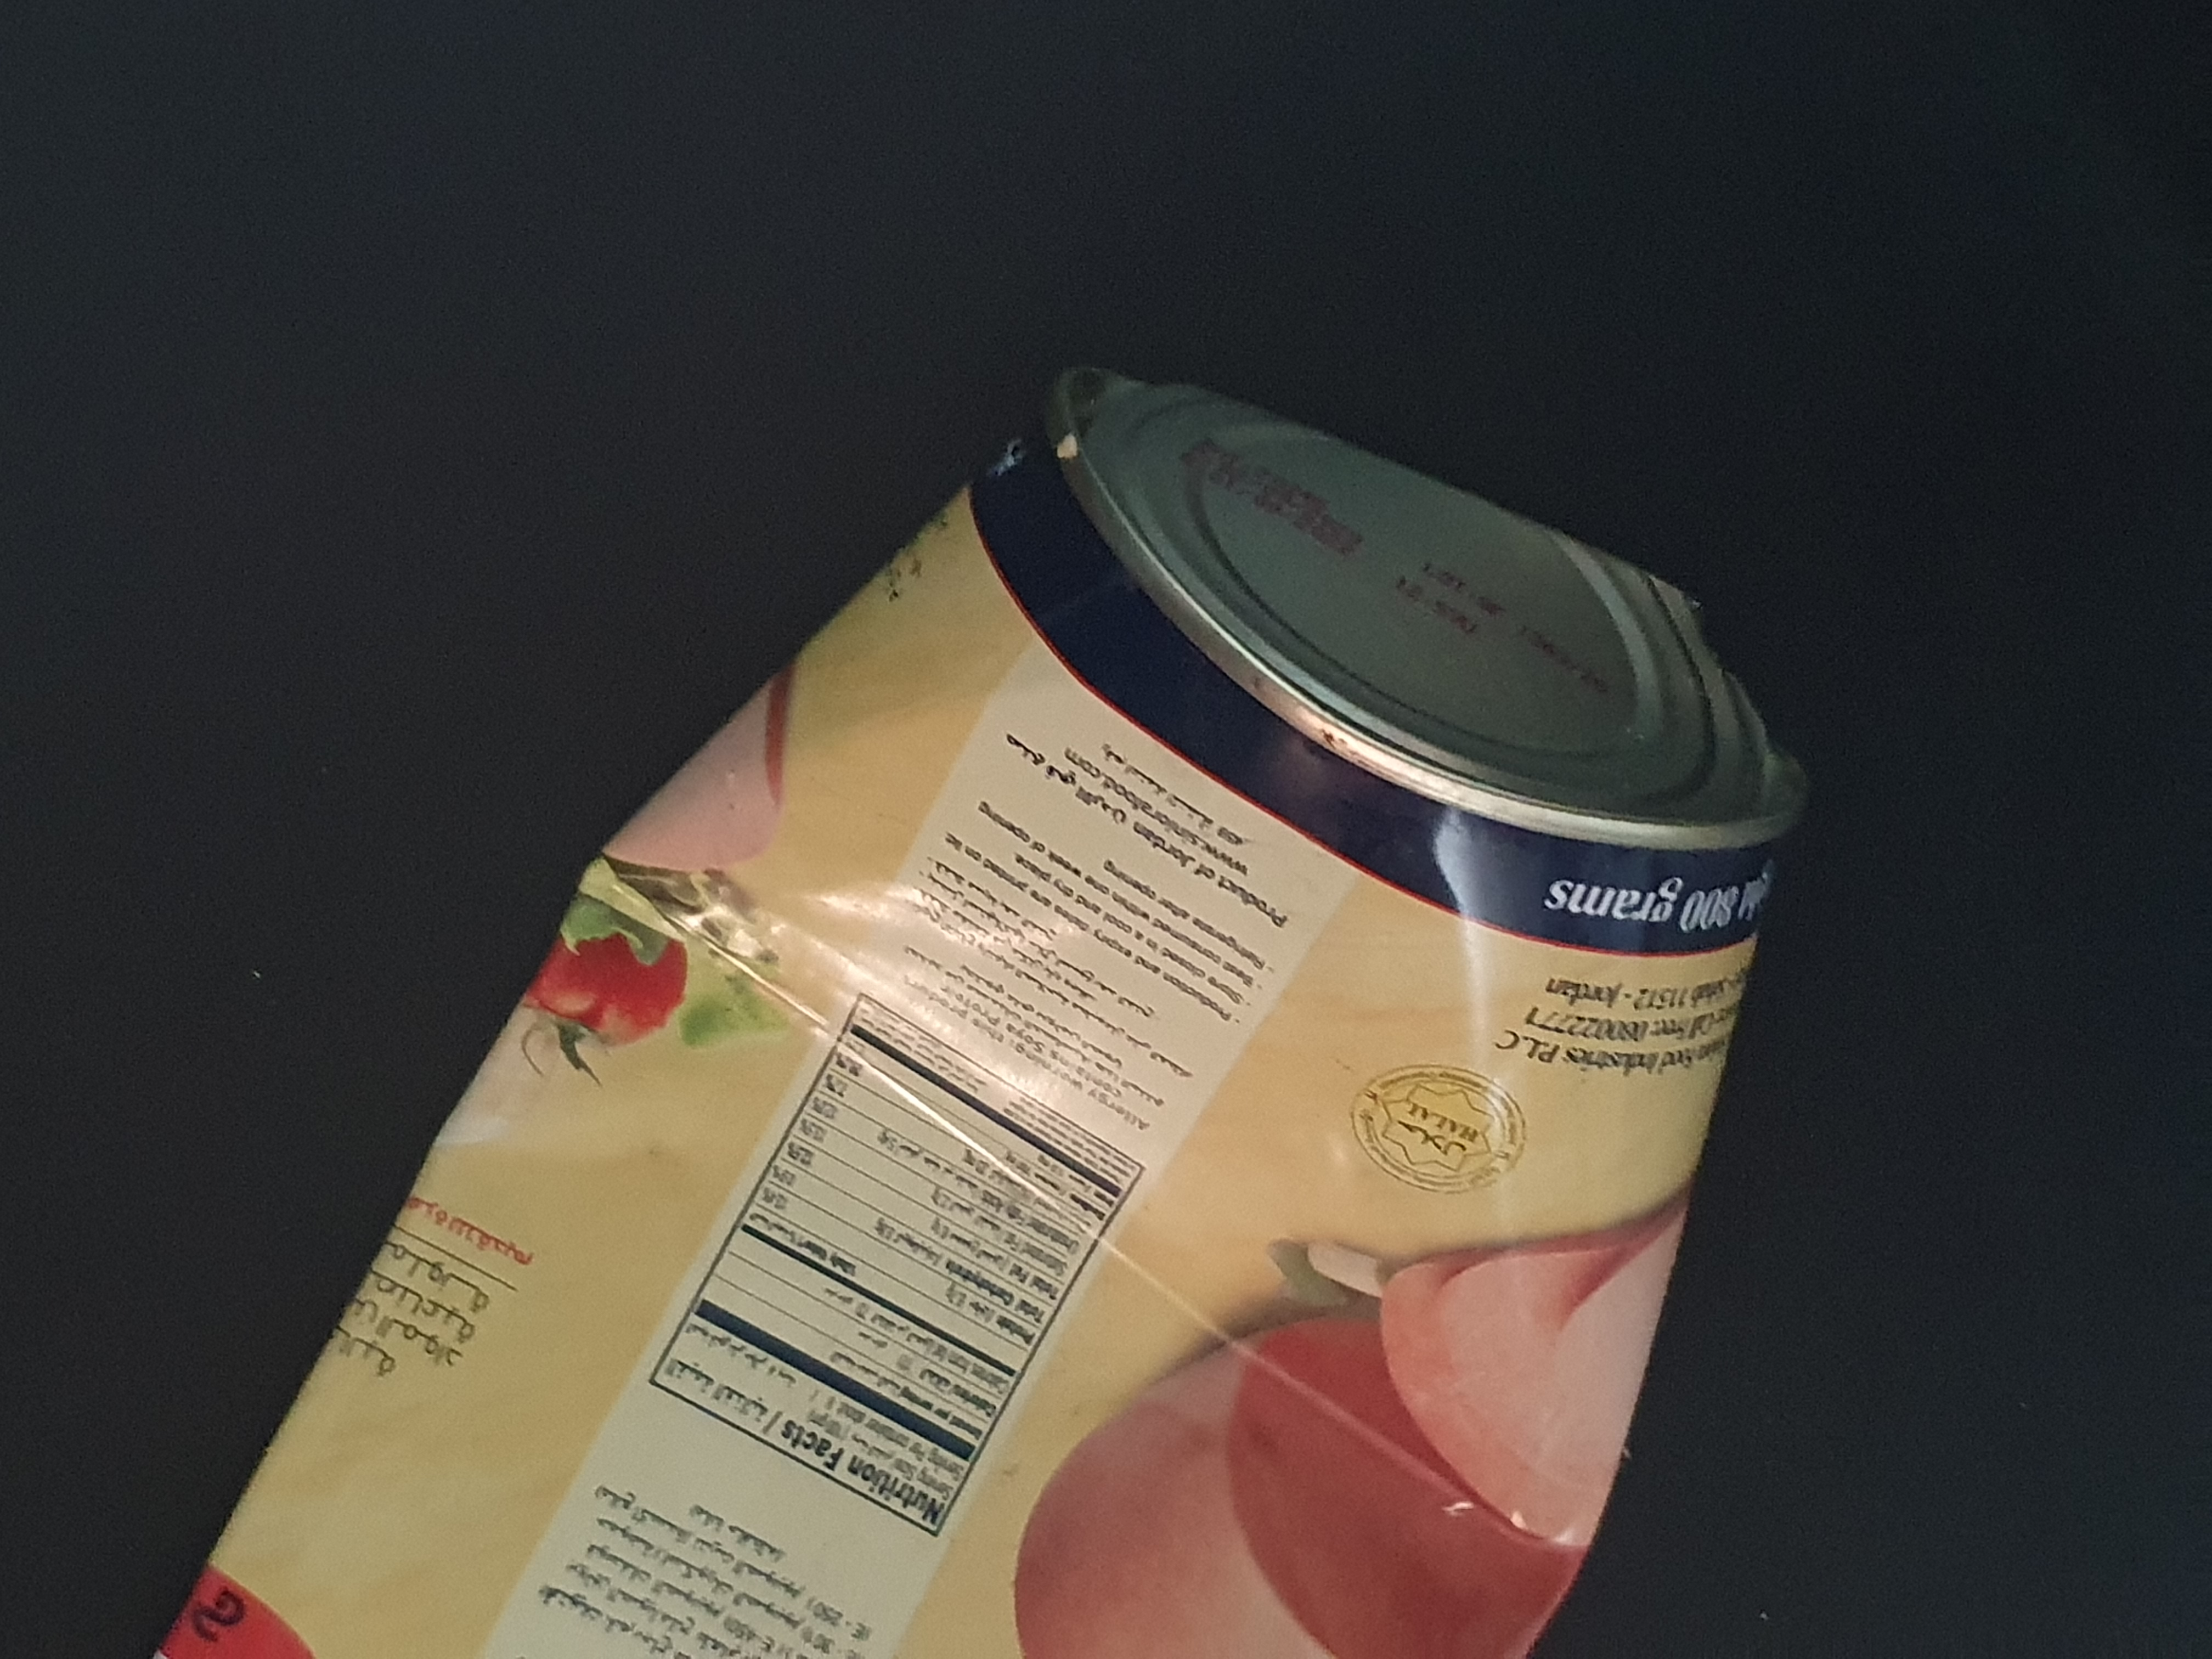metal: (132, 286, 1836, 1659)
